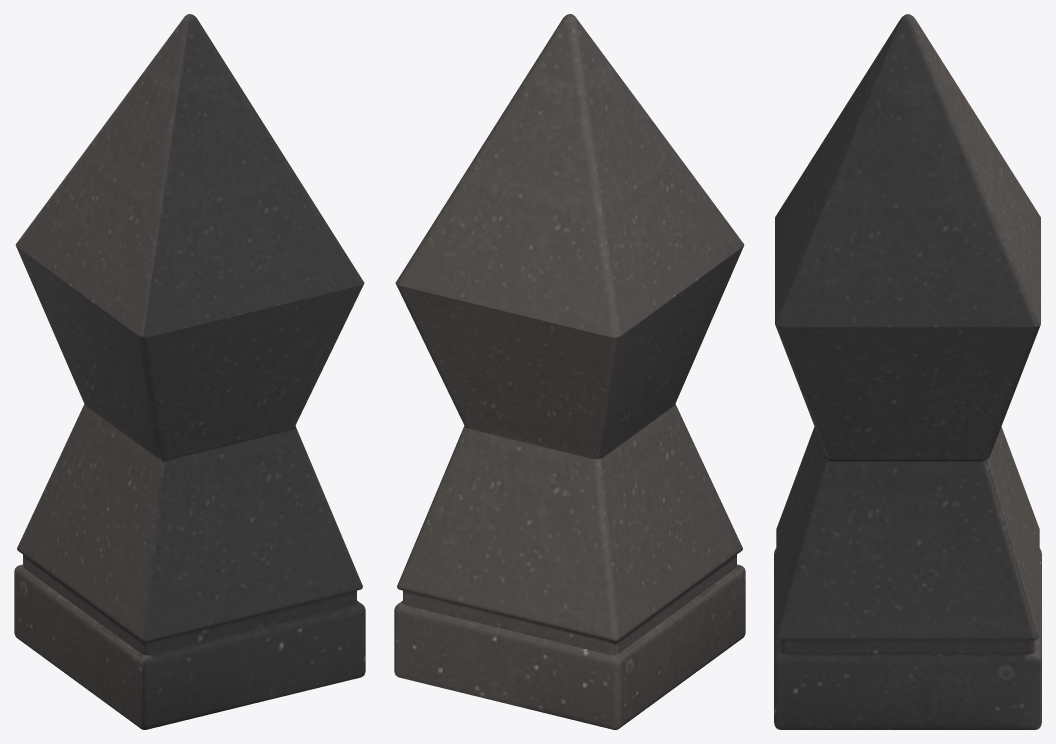
Rendered from b-bishop.glb.
The picture shows the model from 3 angles, left to right: view 1: azimuth 30°, elevation 25°; view 2: azimuth 150°, elevation 25°; view 3: azimuth 270°, elevation 25°; orthographic projection. The views are drawn at different scales.
Visible parts, largest first — view 1: b-bishop; view 2: b-bishop; view 3: b-bishop.
Boxes of the visible parts, x1,y1,x2,y2 form: b-bishop: [14, 14, 365, 729]; b-bishop: [394, 14, 745, 729]; b-bishop: [774, 14, 1041, 729].
Size of the model in its own units: 0.4099 by 1.12 by 0.4099.
1 material, 1 textured.
